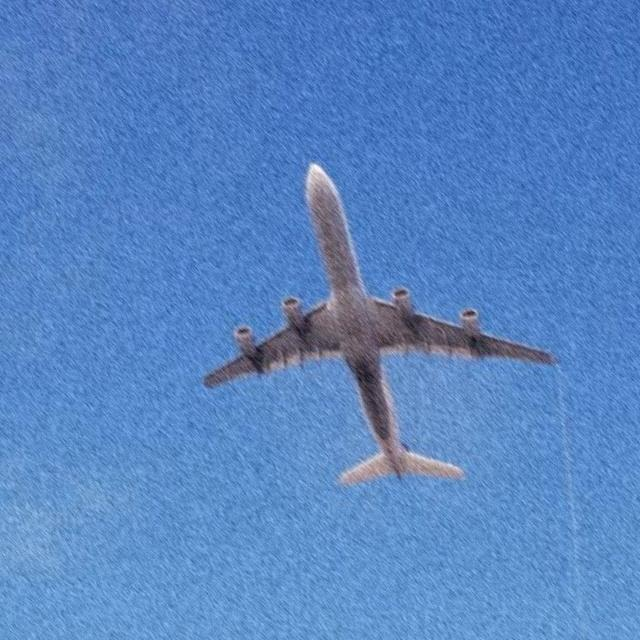airplane: (187, 150, 560, 494)
